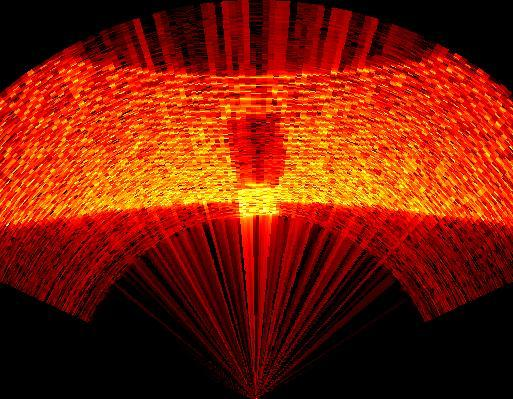box_crate: (225, 111, 282, 188)
